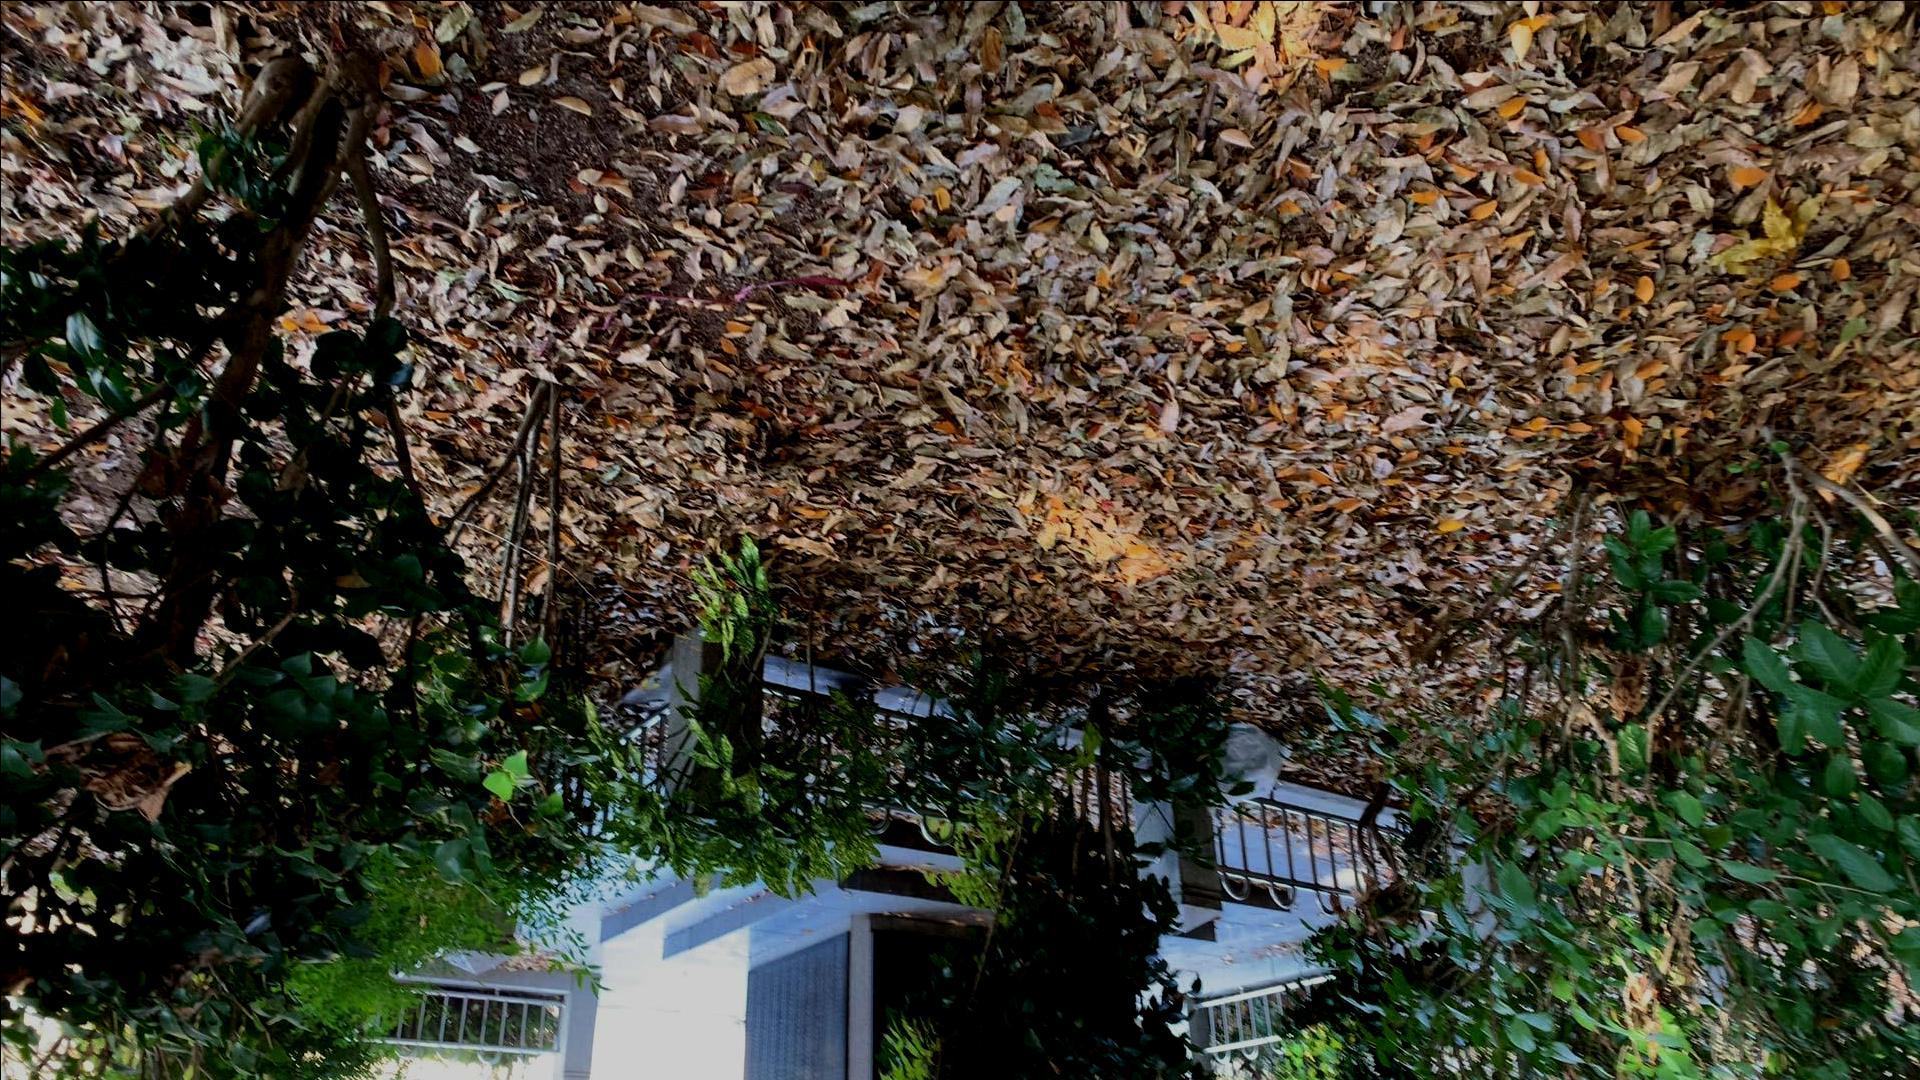white_bag: (1204, 717, 1291, 816)
